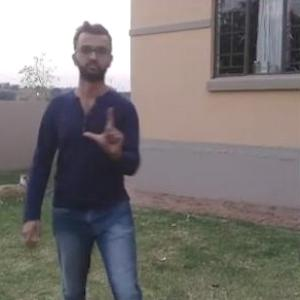land_hand: (78, 102, 130, 156)
